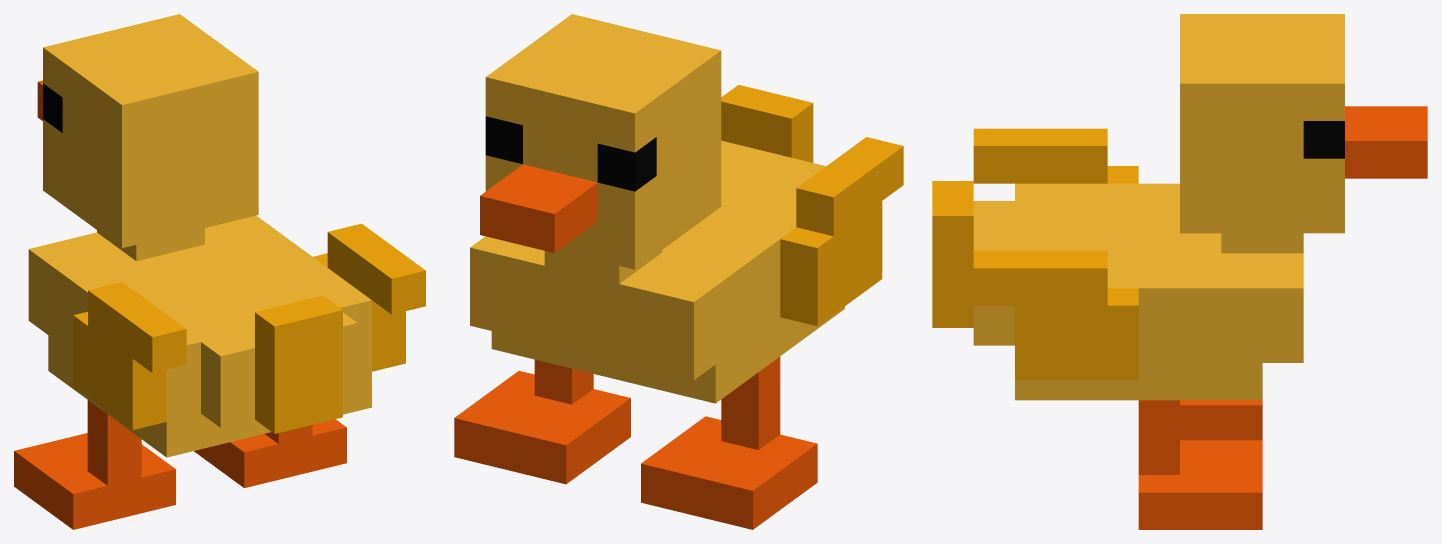
The model's file is duck.obj.
3 renders of one model, left to right at view 1: azimuth 30°, elevation 25°; view 2: azimuth 150°, elevation 25°; view 3: azimuth 270°, elevation 25°, orthographic. The views are drawn at different scales.
Parts seen in each view (by area): view 1: ALAS; view 2: ALAS; view 3: ALAS.
Part boxes in pixels (x1,y1,x2,y2): ALAS: (14,14,425,529); ALAS: (454,14,903,529); ALAS: (932,14,1427,529).
Bounding box in the file's own units: 8 × 11 × 12.
4 materials, 4 textured.
